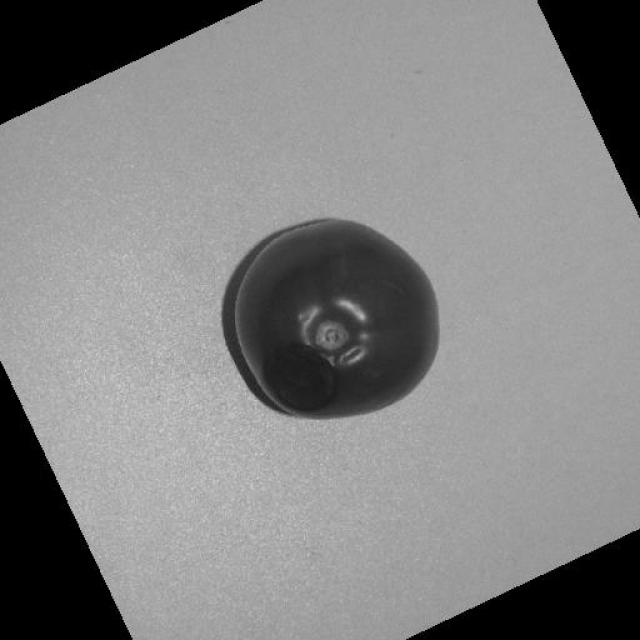Stale_tomato: (236, 272, 377, 434)
